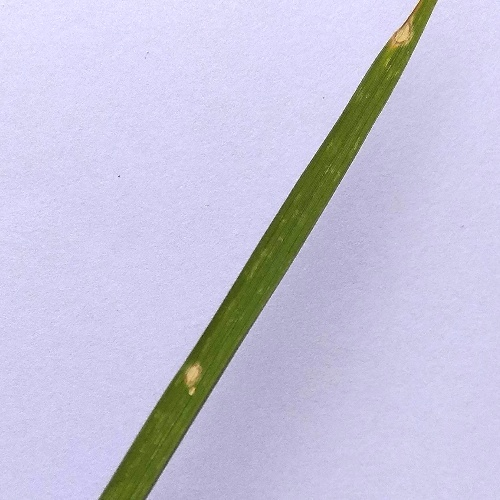Busuk Leher: (170, 351, 208, 400), (388, 10, 419, 50)
